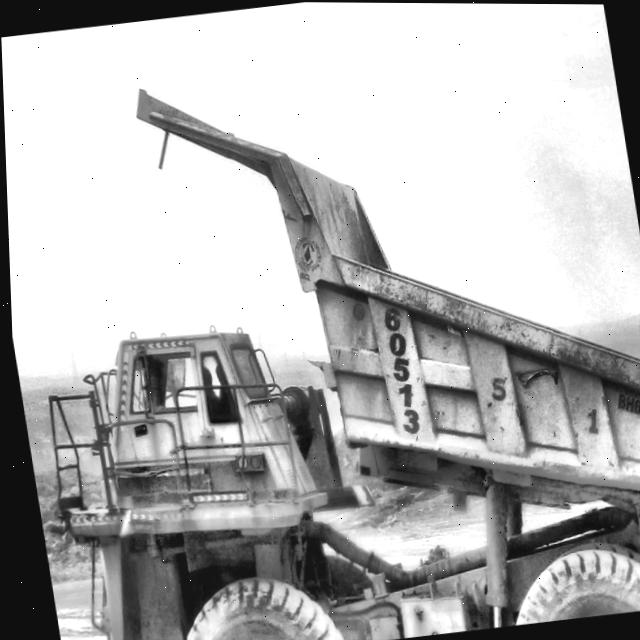dump_truck: (49, 91, 640, 640)
